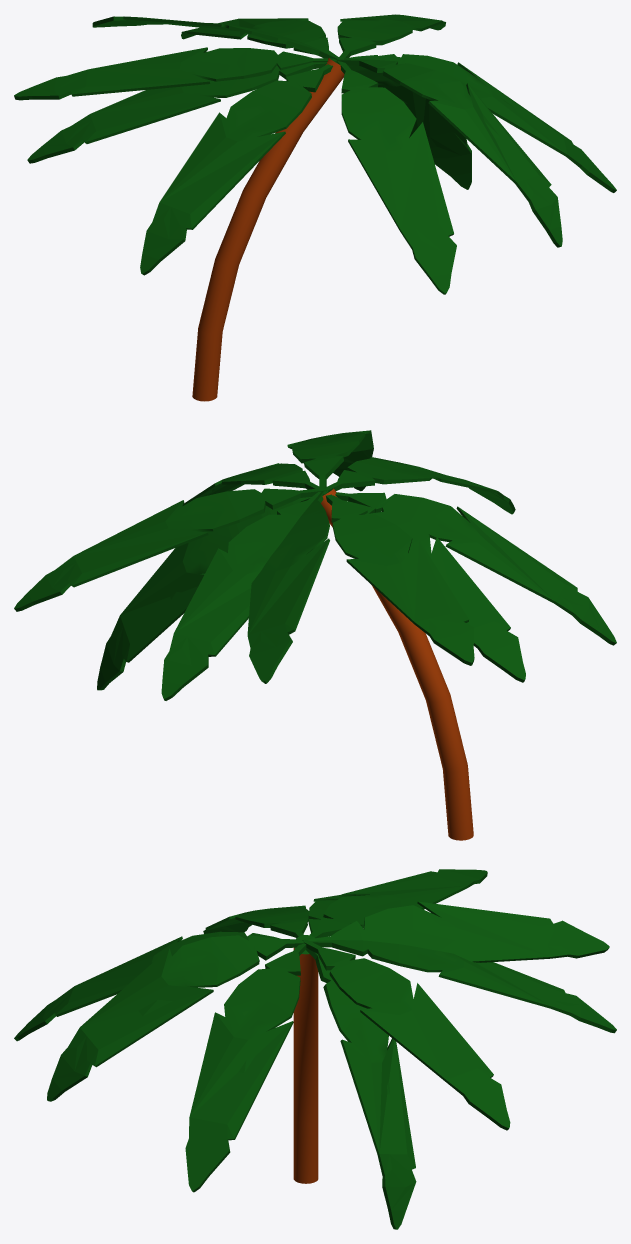
Rendered from Coqueiro.FBX.
The picture shows the model from 3 angles, top to bottom: view 1: azimuth 30°, elevation 25°; view 2: azimuth 150°, elevation 25°; view 3: azimuth 270°, elevation 25°; orthographic projection. The views are drawn at different scales.
Visible parts, largest first — view 1: Cylinder001; view 2: Cylinder001; view 3: Cylinder001.
Part boxes in pixels (left/top/right/bottom): Cylinder001: left=14, top=14, right=616, bottom=401; Cylinder001: left=14, top=430, right=616, bottom=840; Cylinder001: left=14, top=869, right=616, bottom=1229.
Size of the model in its own units: 179 by 113 by 197.
